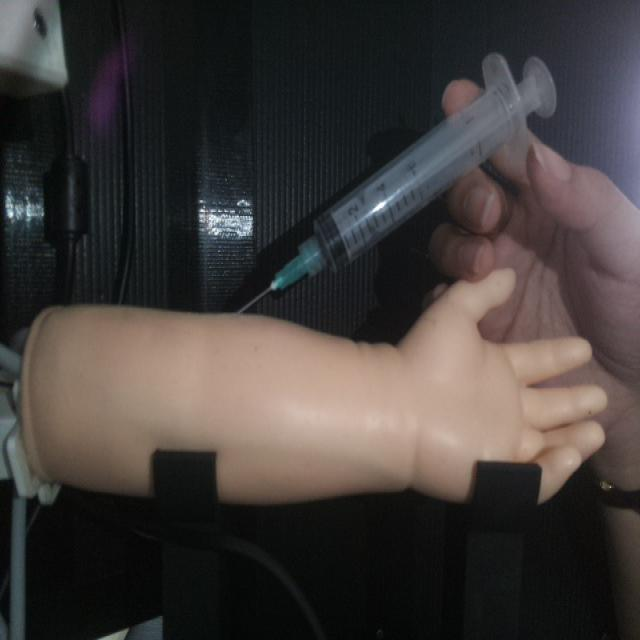Outside: (232, 48, 559, 315)
